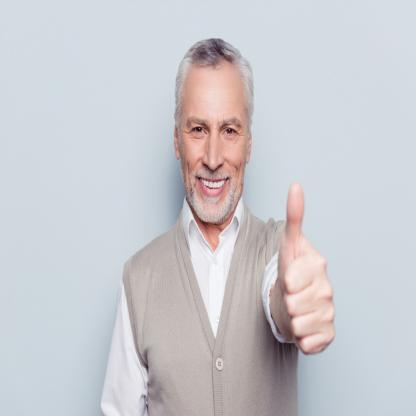Thumbs-Up: (266, 180, 338, 358)
